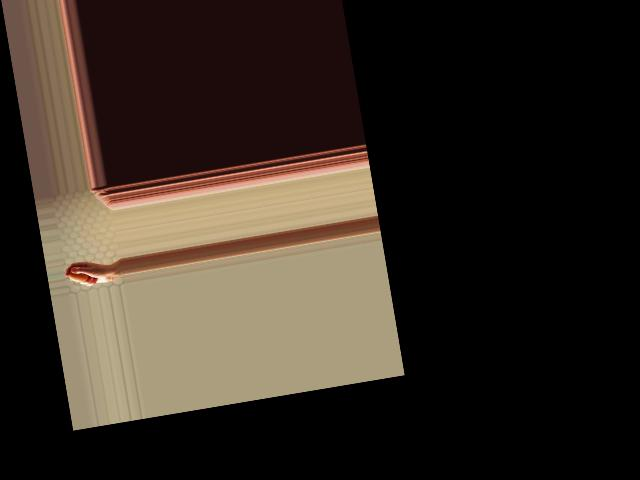egg: (68, 266, 89, 285)
